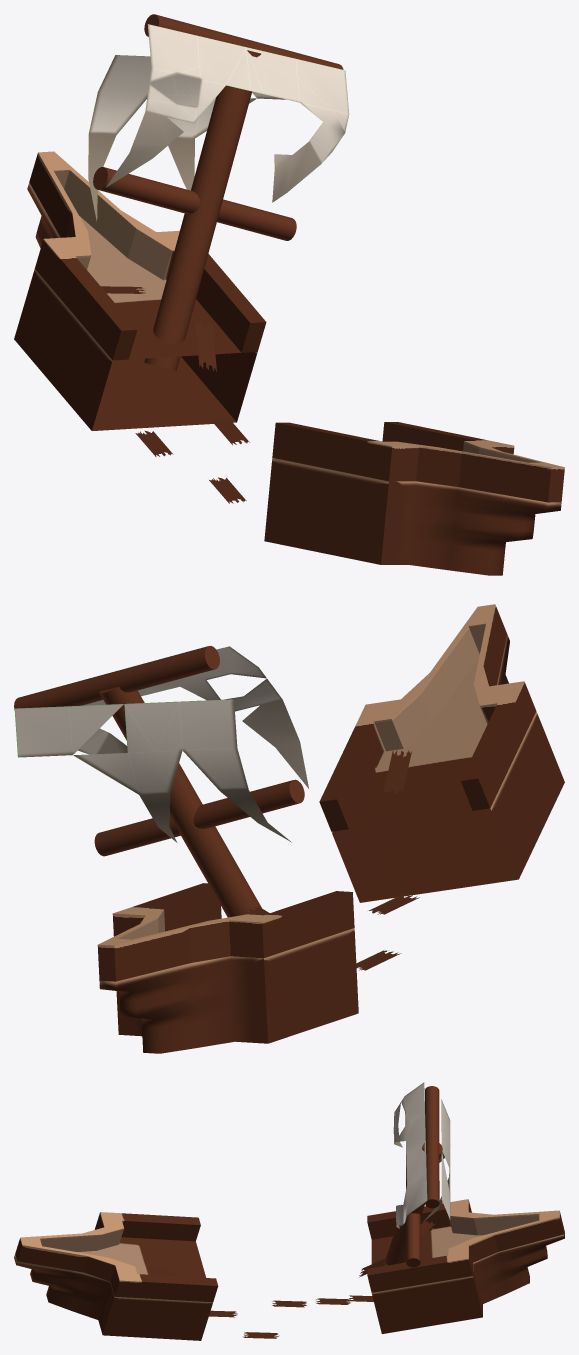
The model's file is wrecked ship.fbx.
The picture shows the model from 3 angles, top to bottom: view 1: azimuth 30°, elevation 25°; view 2: azimuth 150°, elevation 25°; view 3: azimuth 270°, elevation 25°; orthographic projection. The views are drawn at different scales.
Parts seen in each view (by area): view 1: kapan bagian depan, kapan bagian belakang, sail cloth back, Cylinder001, sail cloth front, Cylinder003, Cylinder002, serpihan kayu004; view 2: kapan bagian belakang, kapan bagian depan, sail cloth front, sail cloth back, Cylinder001, Cylinder002, Cylinder003, serpihan kayu003; view 3: kapan bagian belakang, kapan bagian depan, sail cloth back, Cylinder002, sail cloth front, Cylinder003, Cylinder001.
Boxes of the visible parts, <box> form: kapan bagian depan: <box>14,151,266,430</box>; kapan bagian belakang: <box>264,422,564,575</box>; sail cloth back: <box>105,24,349,202</box>; Cylinder001: <box>144,50,260,371</box>; sail cloth front: <box>88,55,285,221</box>; Cylinder003: <box>93,167,296,240</box>; Cylinder002: <box>144,14,343,69</box>; serpihan kayu004: <box>195,320,216,371</box>; kapan bagian belakang: <box>319,604,564,902</box>; kapan bagian depan: <box>97,883,358,1053</box>; sail cloth front: <box>14,699,291,842</box>; sail cloth back: <box>78,646,308,788</box>; Cylinder001: <box>99,686,261,917</box>; Cylinder002: <box>14,646,219,709</box>; Cylinder003: <box>94,779,304,856</box>; serpihan kayu003: <box>383,750,411,794</box>; kapan bagian belakang: <box>14,1212,218,1340</box>; kapan bagian depan: <box>367,1199,564,1333</box>; sail cloth back: <box>393,1082,427,1228</box>; Cylinder002: <box>425,1086,439,1208</box>; sail cloth front: <box>423,1099,450,1221</box>; Cylinder003: <box>406,1154,420,1267</box>; Cylinder001: <box>385,1143,442,1265</box>.
Bounding box in the file's own units: 30.89 × 40.3 × 82.96.
5 materials, 5 textured.
